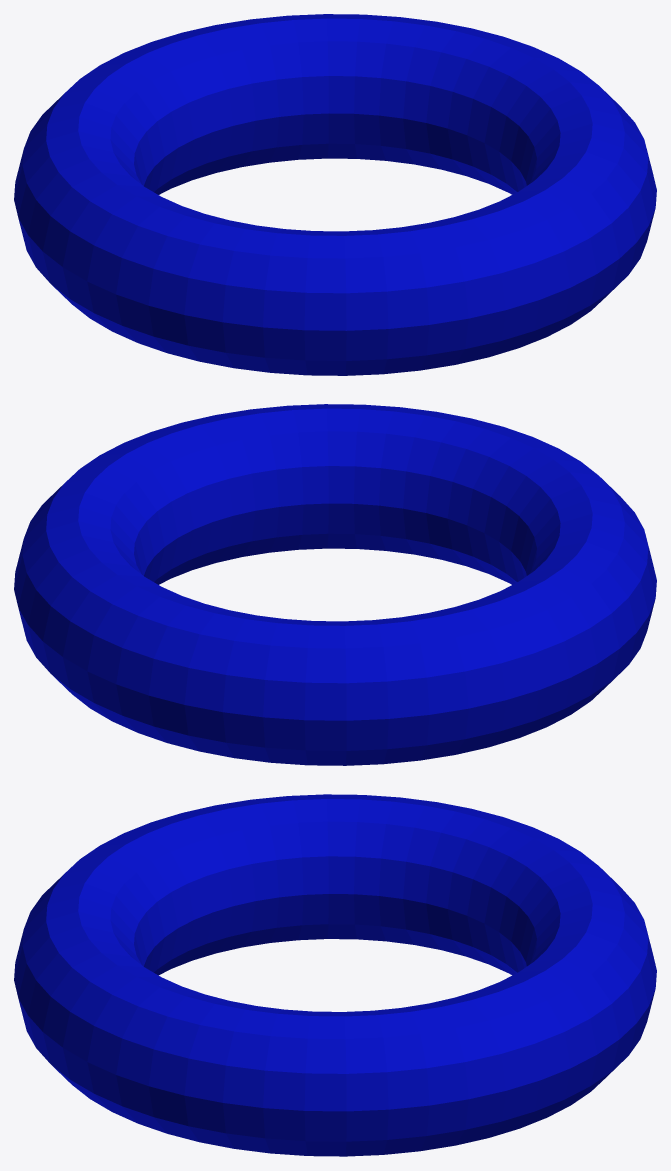
Rendered from 3thirdIsland-radioTower5.obj.
The picture shows the model from 3 angles, top to bottom: view 1: azimuth 30°, elevation 25°; view 2: azimuth 150°, elevation 25°; view 3: azimuth 270°, elevation 25°; orthographic projection.
Parts seen in each view (by area): view 1: Torus.003; view 2: Torus.003; view 3: Torus.003.
Part boxes in pixels (bbox=[...]): Torus.003: bbox=[14, 14, 656, 375]; Torus.003: bbox=[14, 404, 656, 765]; Torus.003: bbox=[14, 794, 656, 1156].
Size of the model in its own units: 3.61 by 0.8402 by 3.61.
